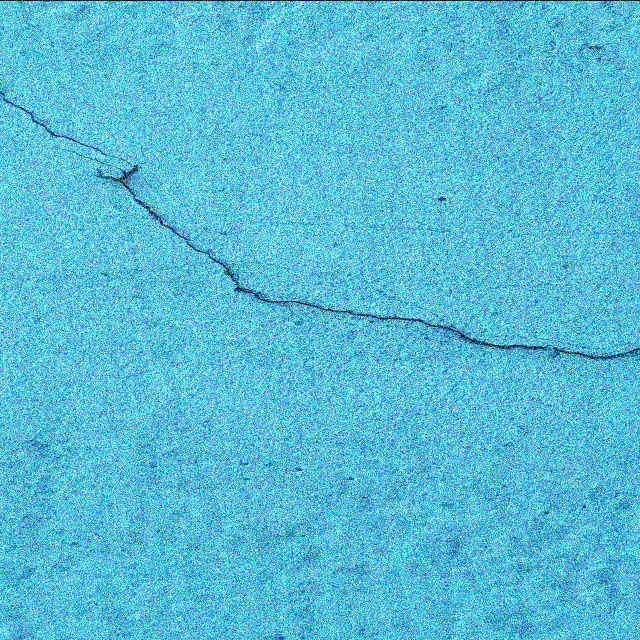SurfaceCrack: (0, 44, 639, 398)
